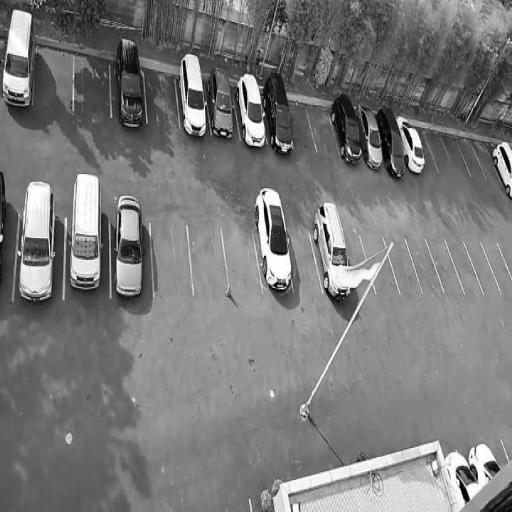Car: (247, 183, 298, 296), (16, 177, 61, 304), (307, 194, 355, 309), (66, 170, 106, 294), (112, 184, 149, 304), (1, 4, 37, 110), (113, 27, 147, 132), (260, 68, 297, 154), (326, 89, 366, 167), (176, 50, 210, 140), (234, 71, 270, 155), (372, 104, 410, 180), (353, 100, 389, 175), (442, 445, 483, 509), (205, 62, 237, 141), (461, 437, 504, 490), (395, 115, 427, 173), (487, 136, 512, 203)
Space Available: (149, 222, 193, 297), (187, 223, 229, 297), (33, 40, 74, 108), (221, 228, 263, 292), (73, 52, 110, 116), (360, 236, 400, 293), (383, 237, 422, 294), (143, 67, 180, 126), (446, 239, 484, 295), (427, 238, 464, 293), (287, 234, 322, 292), (405, 238, 442, 292), (464, 241, 501, 294), (344, 236, 375, 296), (305, 103, 340, 155), (481, 242, 512, 293), (288, 99, 317, 150), (439, 130, 471, 176), (422, 127, 455, 171), (454, 134, 486, 178), (468, 137, 500, 181), (414, 125, 439, 172)
